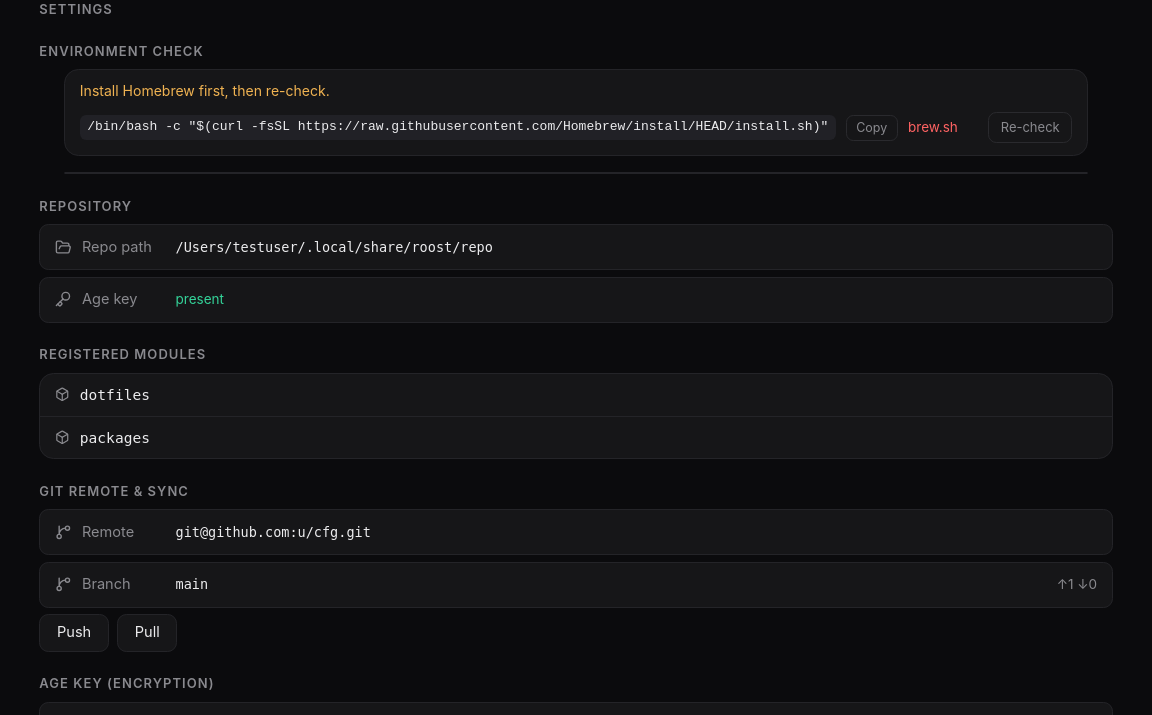
Scenario: Settings › surfaces the full push output and an auth fallback hint on failure
Step 1. Click the button "Push" → (74, 633), box top-left (39, 614), bottom-right (109, 652)
(page scrolled)
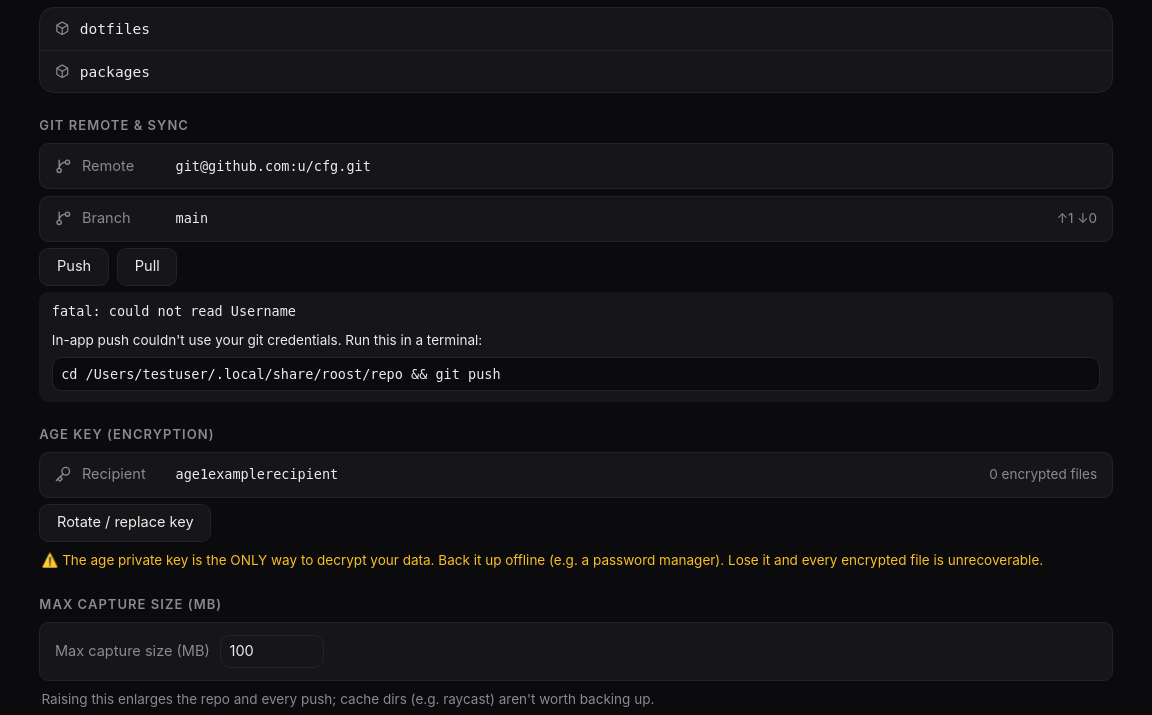
expect the text "fatal: could not read Username" is shown: met, box top-left (52, 303), bottom-right (296, 319)
expect the text "couldn't use your git credentials" is shown: met, box top-left (52, 332), bottom-right (482, 348)
